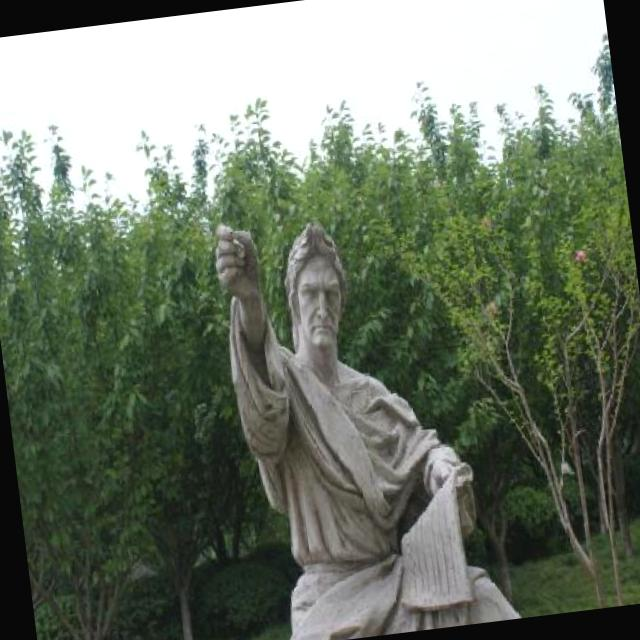Person: (217, 196, 496, 640)
